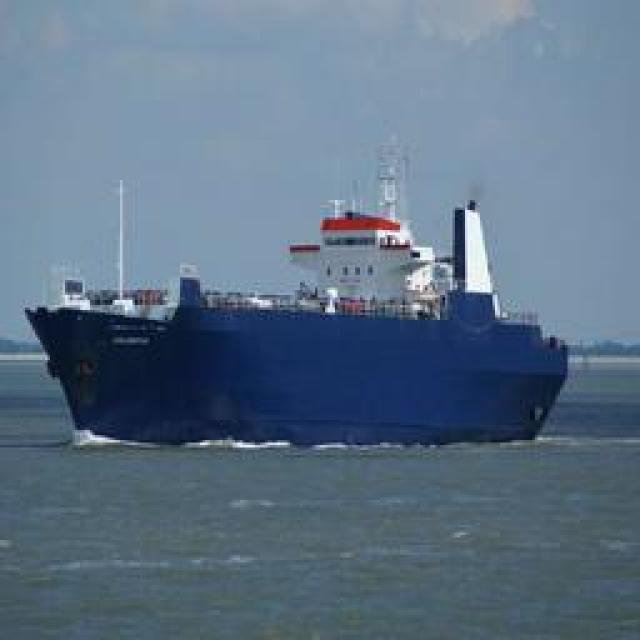CIV_Ship: (32, 154, 562, 444)
